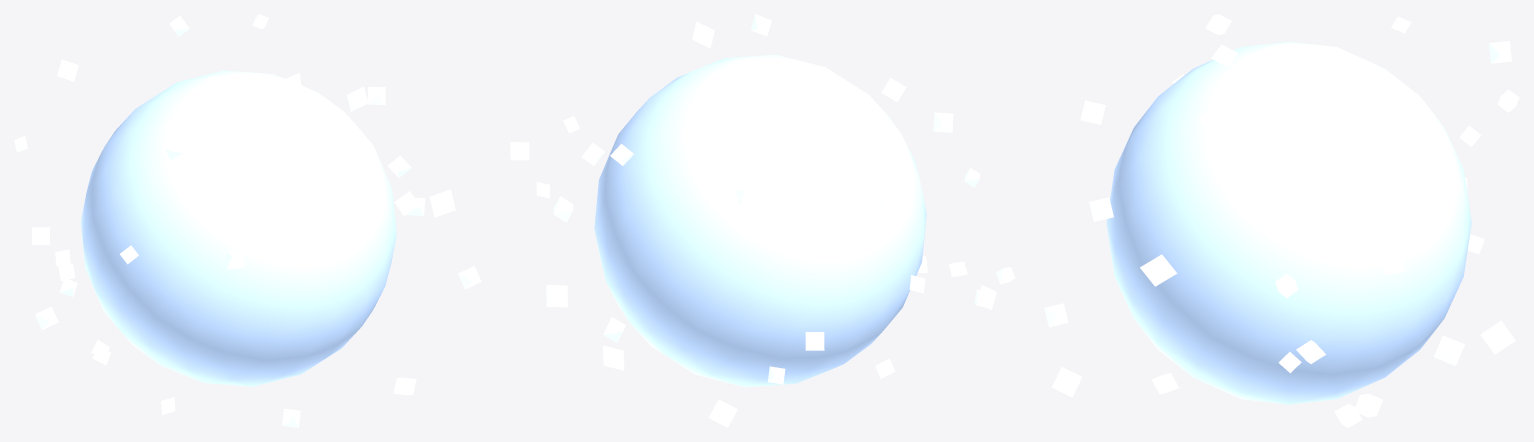
The model's file is nucleo_estelar.fbx.
3 views of the same model, side by side, from view 1: azimuth 30°, elevation 25°; view 2: azimuth 150°, elevation 25°; view 3: azimuth 270°, elevation 25° (orthographic). The views are drawn at different scales.
Visible parts, largest first — view 1: nucleo_estelar_cristal, nucleo_estelar_orbita; view 2: nucleo_estelar_cristal, nucleo_estelar_orbita; view 3: nucleo_estelar_cristal, nucleo_estelar_orbita.
Boxes of the visible parts, x1,y1,x2,y2 form: nucleo_estelar_cristal: (80, 70, 396, 386); nucleo_estelar_orbita: (14, 14, 481, 427); nucleo_estelar_cristal: (594, 54, 926, 387); nucleo_estelar_orbita: (510, 14, 1015, 427); nucleo_estelar_cristal: (1106, 41, 1471, 404); nucleo_estelar_orbita: (1044, 14, 1519, 427).
Size of the model in its own units: 3.61 by 2.74 by 3.03.
Materials: 3 (3 with a texture image).
